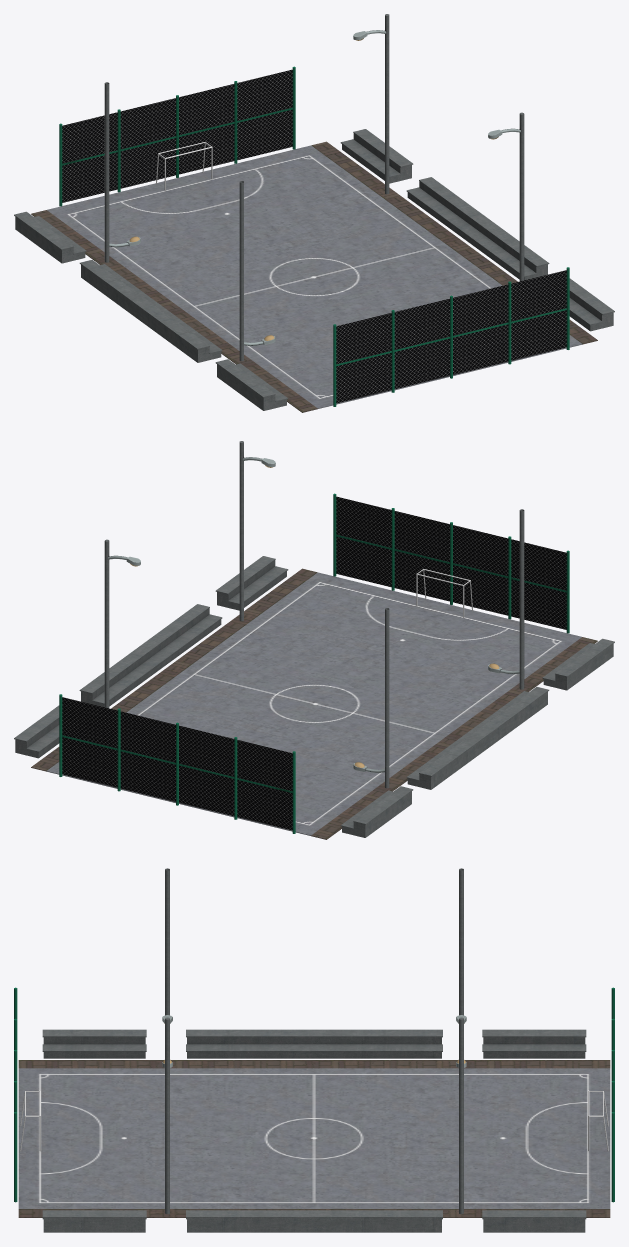
Rendered from Cancha Microfutbol.FBX.
3 renders of one model, top to bottom at view 1: azimuth 30°, elevation 25°; view 2: azimuth 150°, elevation 25°; view 3: azimuth 270°, elevation 25°, orthographic. The views are drawn at different scales.
Parts seen in each view (by area): view 1: Cancha_de_futbol, Malla 001, Malla 002, Grada_001, Grada_002, Anden_001, Poste_001 (×2), Poste_de_luz_004, Poste_de_luz_002, Poste_de_luz_003, Poste_de_luz_001; view 2: Cancha_de_futbol, Malla 002, Malla 001, Grada_001, Grada_002, Anden_001, Poste_001 (×2), Poste_de_luz_003, Poste_de_luz_001, Poste_de_luz_004, Poste_de_luz_002; view 3: Cancha_de_futbol, Grada_002, Grada_001, Anden_001, Poste_001 (×2), Poste_de_luz_001, Poste_de_luz_002, Poste_de_luz_003, Poste_de_luz_004.
Boxes of the visible parts, bbox=[...] form: Cancha_de_futbol: bbox=[47, 145, 582, 408]; Malla 001: bbox=[336, 270, 566, 403]; Malla 002: bbox=[62, 69, 292, 202]; Grada_001: bbox=[340, 129, 614, 331]; Grada_002: bbox=[14, 211, 288, 410]; Anden_001: bbox=[31, 141, 597, 412]; Poste_001 (×2): bbox=[59, 66, 569, 406]; Poste_de_luz_004: bbox=[104, 82, 109, 262]; Poste_de_luz_002: bbox=[519, 112, 524, 281]; Poste_de_luz_003: bbox=[239, 181, 243, 361]; Poste_de_luz_001: bbox=[385, 14, 389, 194]; Cancha_de_futbol: bbox=[46, 572, 581, 835]; Malla 002: bbox=[62, 697, 292, 830]; Malla 001: bbox=[336, 496, 566, 629]; Grada_001: bbox=[14, 556, 288, 758]; Grada_002: bbox=[340, 638, 614, 837]; Anden_001: bbox=[31, 568, 597, 839]; Poste_001 (×2): bbox=[59, 493, 569, 833]; Poste_de_luz_003: bbox=[519, 509, 524, 689]; Poste_de_luz_001: bbox=[104, 539, 109, 708]; Poste_de_luz_004: bbox=[385, 608, 389, 788]; Poste_de_luz_002: bbox=[239, 441, 243, 621]; Cancha_de_futbol: bbox=[18, 1068, 610, 1208]; Grada_002: bbox=[42, 1029, 586, 1058]; Grada_001: bbox=[42, 1210, 586, 1232]; Anden_001: bbox=[18, 1060, 610, 1217]; Poste_001 (×2): bbox=[14, 987, 614, 1202]; Poste_de_luz_001: bbox=[459, 1017, 463, 1214]; Poste_de_luz_002: bbox=[165, 1017, 169, 1214]; Poste_de_luz_003: bbox=[165, 868, 169, 1015]; Poste_de_luz_004: bbox=[459, 868, 463, 1015].
Bounding box in the file's own units: 22.61 × 11 × 30.67.
Materials: 3 (3 with a texture image).
